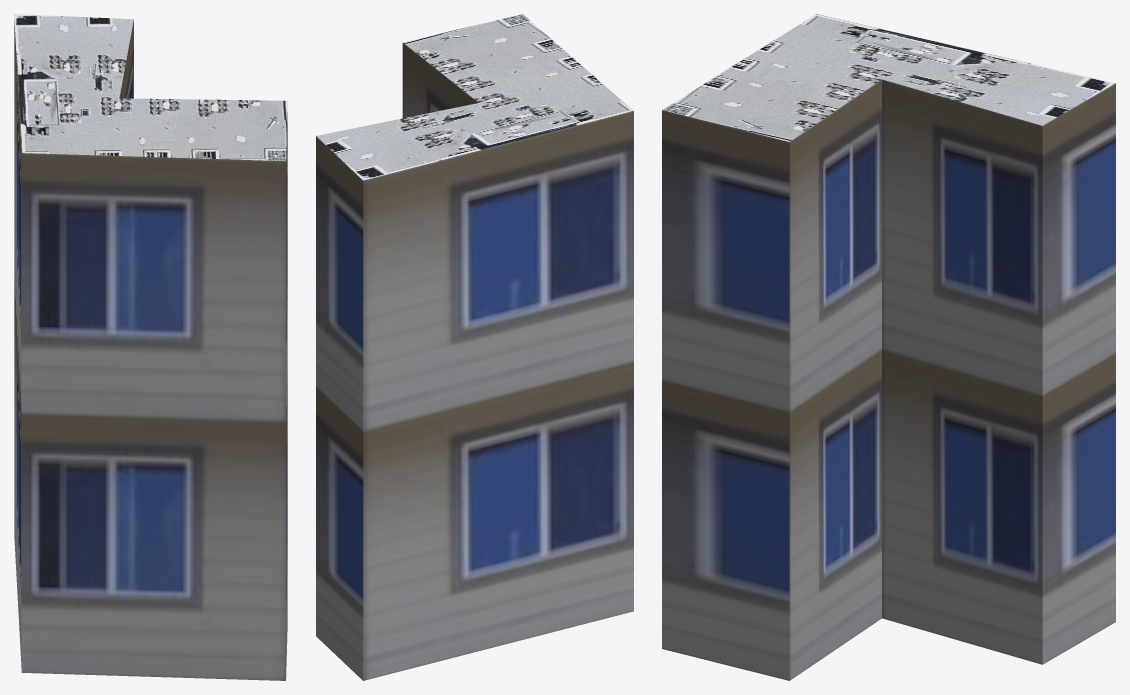
File: ResTex__3715.fbx
3 renders of one model, left to right at view 1: azimuth 30°, elevation 25°; view 2: azimuth 150°, elevation 25°; view 3: azimuth 270°, elevation 25°, orthographic. The views are drawn at different scales.
Parts seen in each view (by area): view 1: CityEngineMaterial_23_m, CityEngineMaterial_2_m; view 2: CityEngineMaterial_23_m, CityEngineMaterial_2_m; view 3: CityEngineMaterial_23_m, CityEngineMaterial_2_m.
Part boxes in pixels (x1,y1,x2,y2): CityEngineMaterial_23_m: [14, 19, 287, 680]; CityEngineMaterial_2_m: [14, 14, 287, 161]; CityEngineMaterial_23_m: [316, 43, 633, 680]; CityEngineMaterial_2_m: [316, 14, 633, 180]; CityEngineMaterial_23_m: [662, 79, 1115, 680]; CityEngineMaterial_2_m: [662, 14, 1115, 141].
Bounding box in the file's own units: 3.06 × 6 × 4.58.
Materials: 2 (2 with a texture image).
